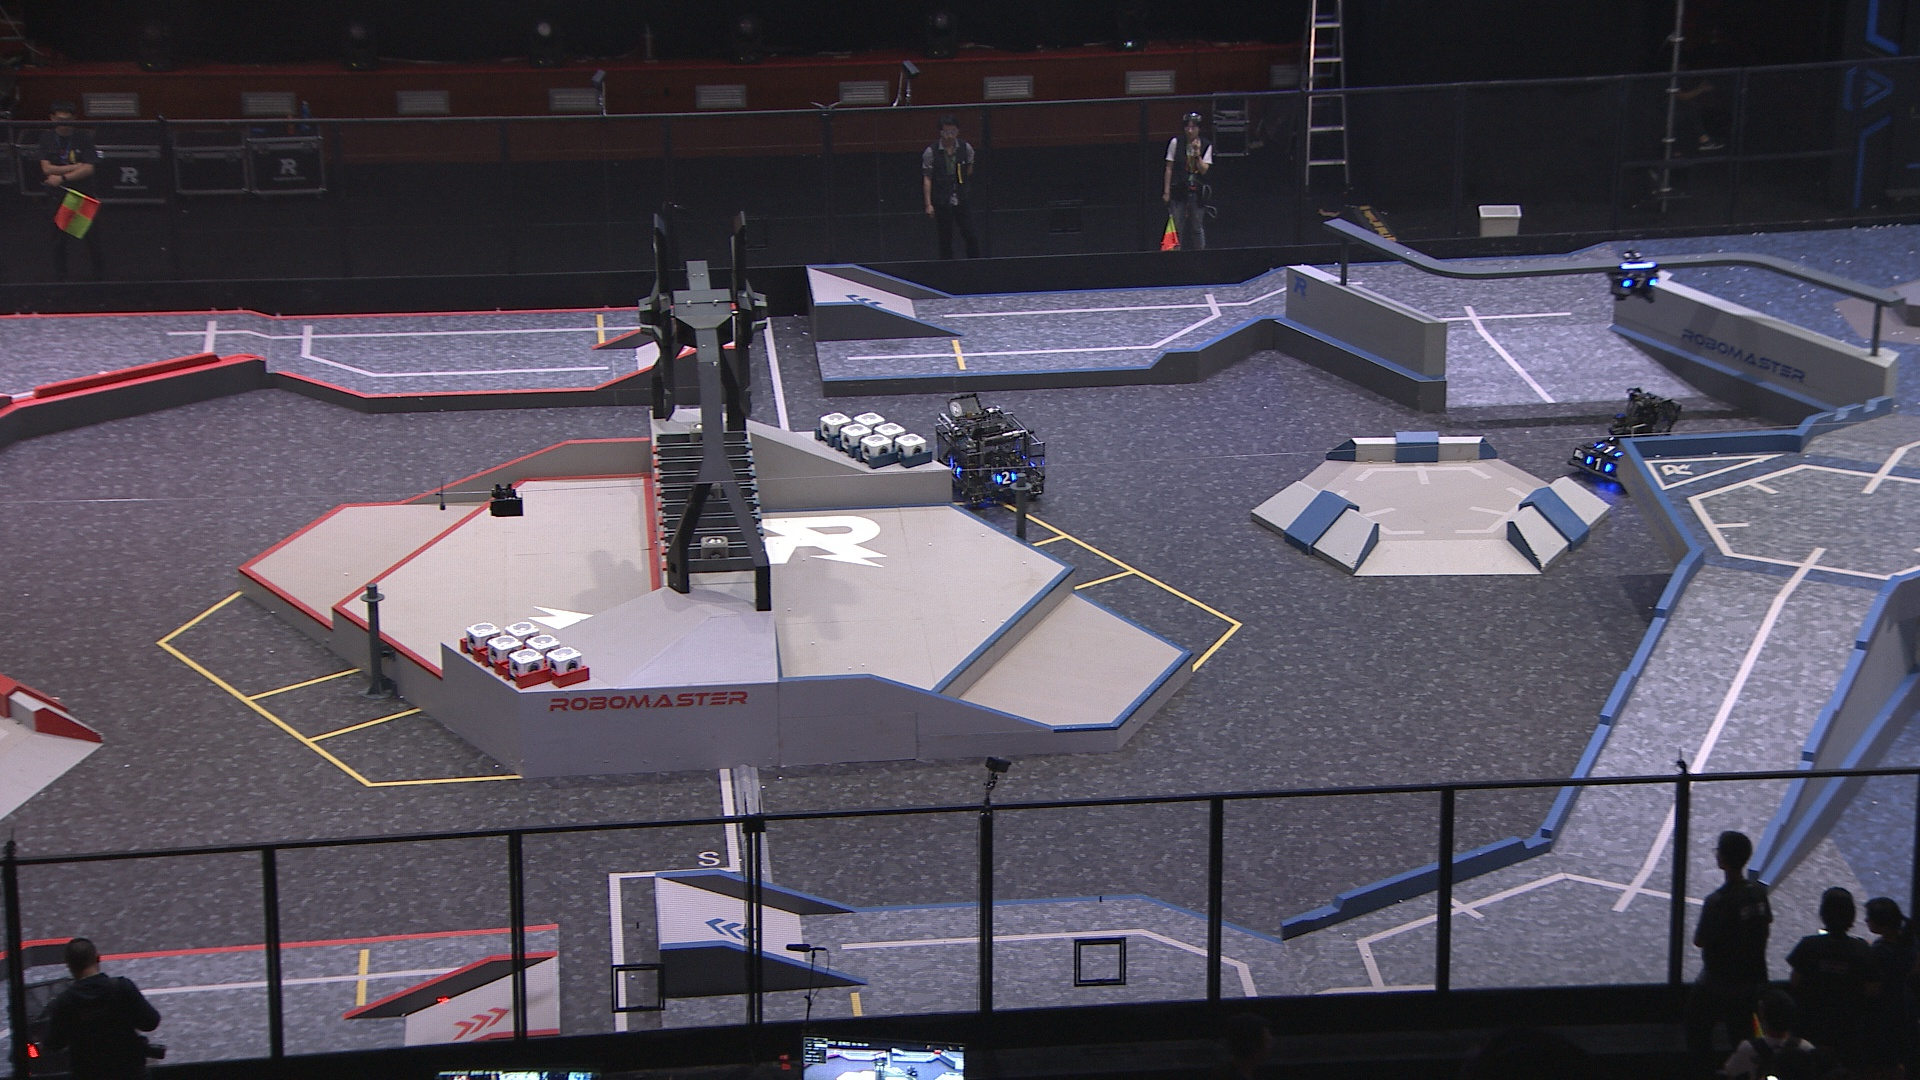armor: (1622, 276, 1660, 291), (1584, 454, 1614, 473), (1596, 438, 1623, 458), (988, 469, 1015, 488), (945, 458, 965, 477)
car: (935, 390, 1050, 520), (3, 969, 135, 1080), (1567, 386, 1697, 491)
watcher: (1605, 244, 1664, 305)
